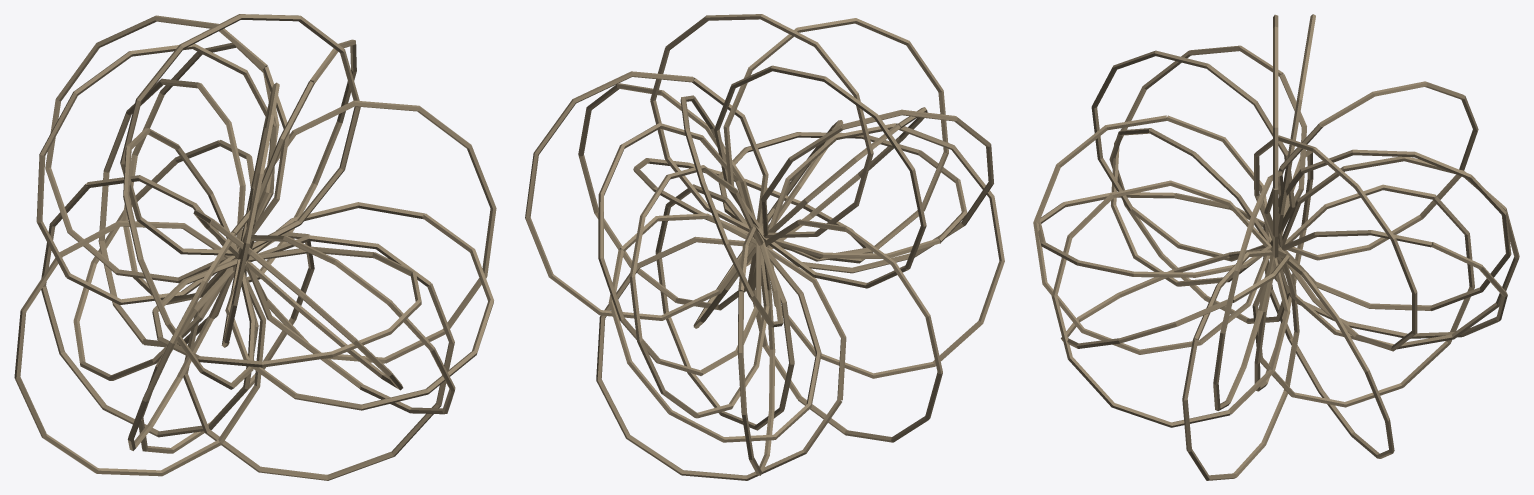
File: tumble.glb
3 views of the same model, side by side, from view 1: azimuth 30°, elevation 25°; view 2: azimuth 150°, elevation 25°; view 3: azimuth 270°, elevation 25° (orthographic). The views are drawn at different scales.
Parts seen in each view (by area): view 1: tumbleweed; view 2: tumbleweed; view 3: tumbleweed.
Part boxes in pixels (left/top/right/bottom): tumbleweed: left=14, top=14, right=496, bottom=480; tumbleweed: left=525, top=14, right=1004, bottom=480; tumbleweed: left=1033, top=14, right=1519, bottom=480.
Bounding box in the file's own units: 1.86 × 1.9 × 1.97.
